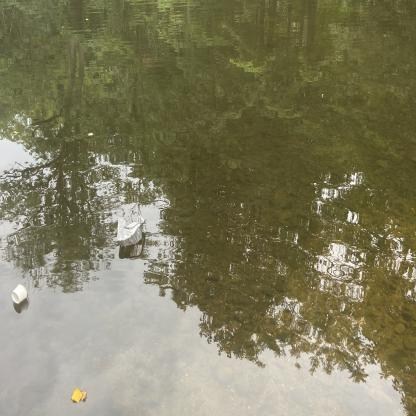trash: (114, 208, 150, 250), (9, 280, 32, 308)
